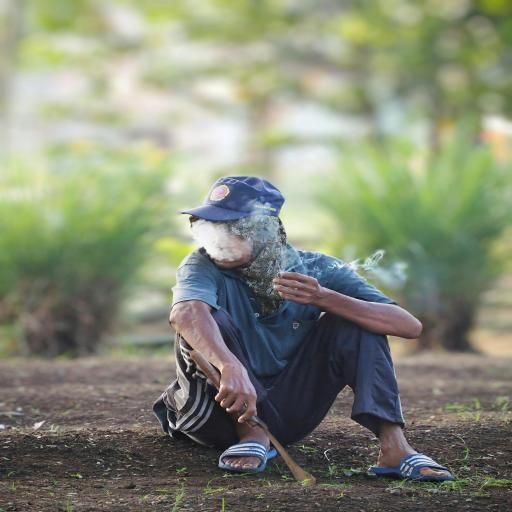asap rokok: (180, 174, 298, 292)
